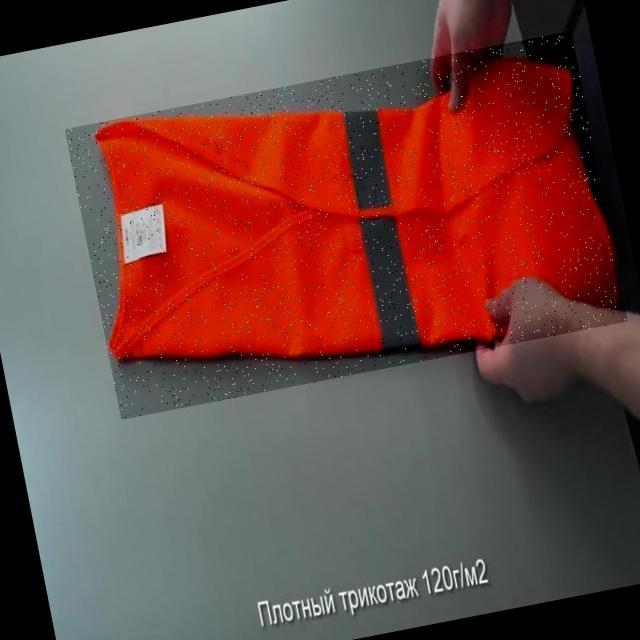Safety Vest: (65, 31, 628, 420)
bare-arms: (468, 264, 616, 422), (424, 4, 527, 116)
